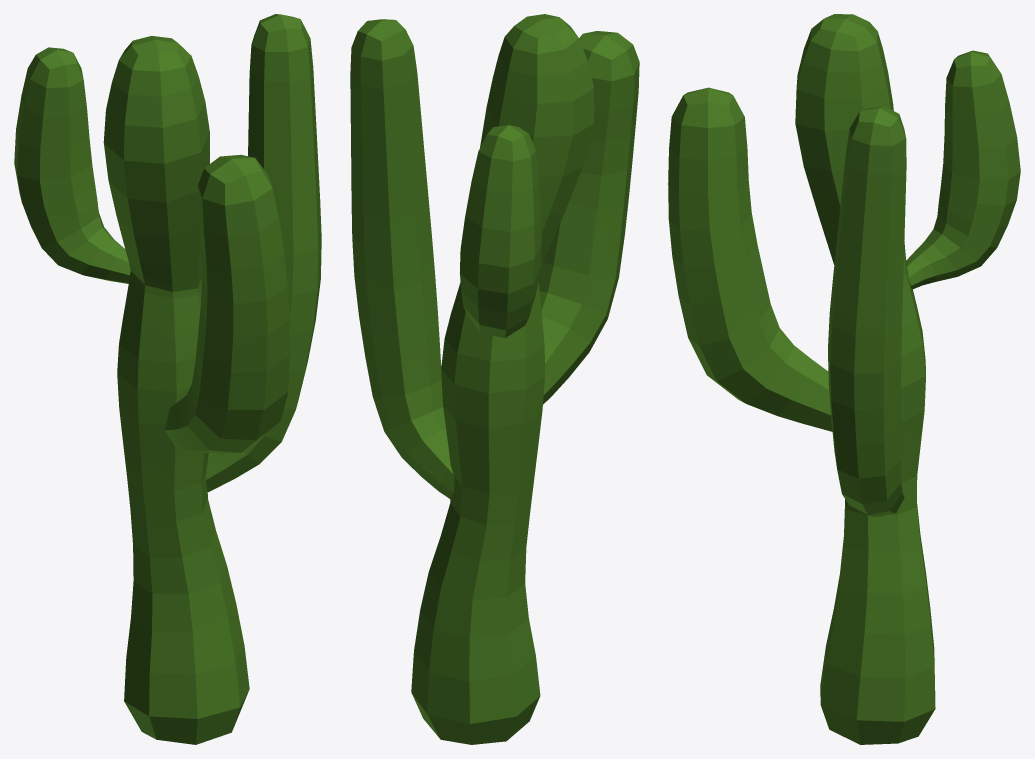
File: cactus2.fbx
3 views of the same model, side by side, from view 1: azimuth 30°, elevation 25°; view 2: azimuth 150°, elevation 25°; view 3: azimuth 270°, elevation 25° (orthographic). The views are drawn at different scales.
Parts seen in each view (by area): view 1: Plane; view 2: Plane; view 3: Plane.
Boxes of the visible parts, <box> form: Plane: <box>14,14,321,744</box>; Plane: <box>350,14,639,744</box>; Plane: <box>668,14,1020,744</box>.
Bounding box in the file's own units: 105 × 304 × 139.
